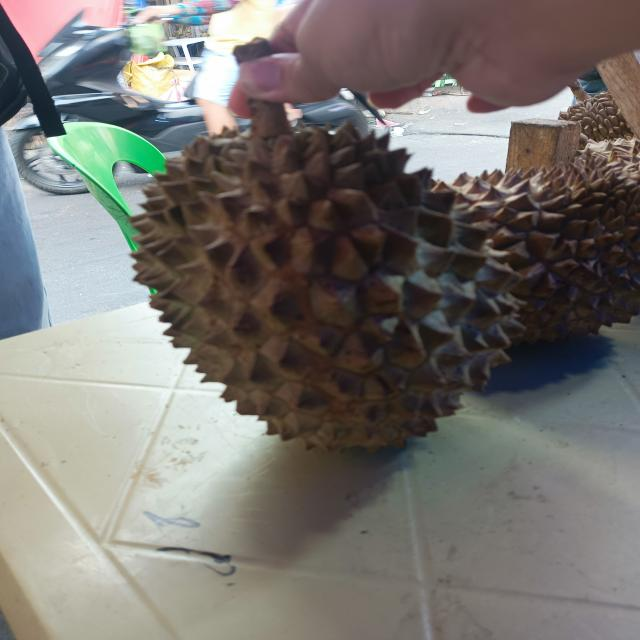mature: (126, 87, 530, 445)
